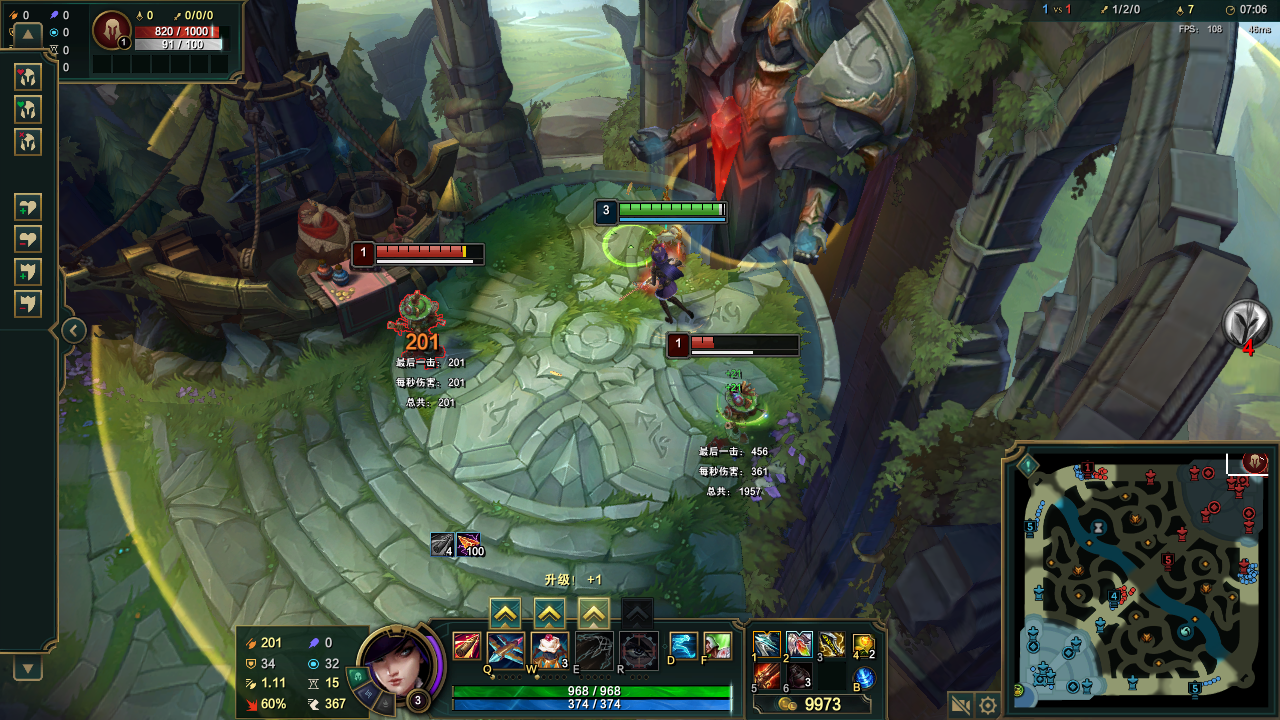DFYX: (694, 333, 811, 350), (377, 242, 486, 257)
